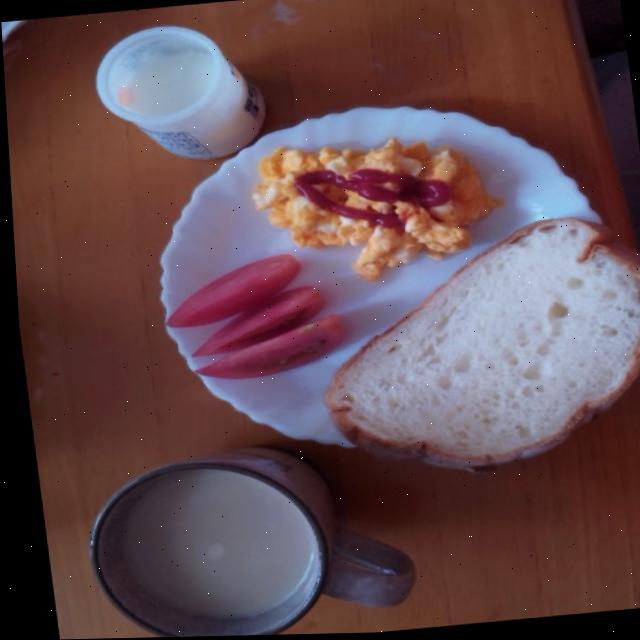面包点心: (196, 171, 589, 475)
